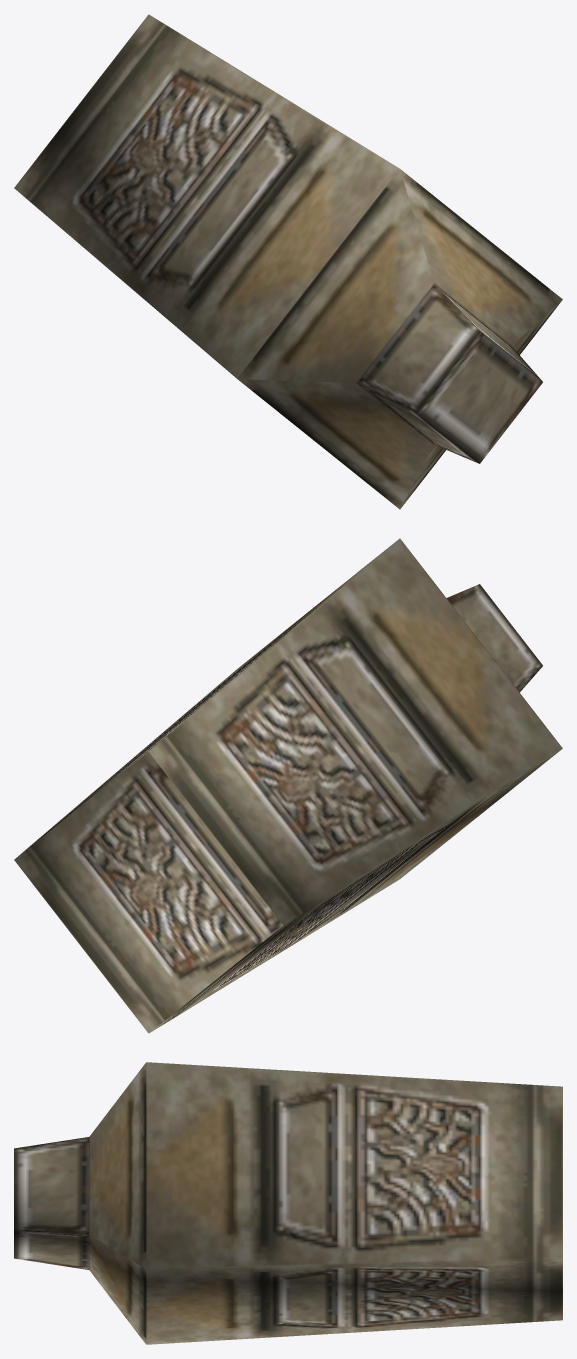
Rendered from INST_FLASKB.fbx.
3 views of the same model, one above another, from view 1: azimuth 30°, elevation 25°; view 2: azimuth 150°, elevation 25°; view 3: azimuth 270°, elevation 25° (orthographic). The views are drawn at different scales.
Parts seen in each view (by area): view 1: INST_FLASKB; view 2: INST_FLASKB; view 3: INST_FLASKB.
Part boxes in pixels (bbox=[...]): INST_FLASKB: bbox=[14, 14, 562, 509]; INST_FLASKB: bbox=[14, 538, 562, 1033]; INST_FLASKB: bbox=[14, 1062, 562, 1344].
Bounding box in the file's own units: 3557 × 3557 × 6261.
Materials: 1 (1 with a texture image).
